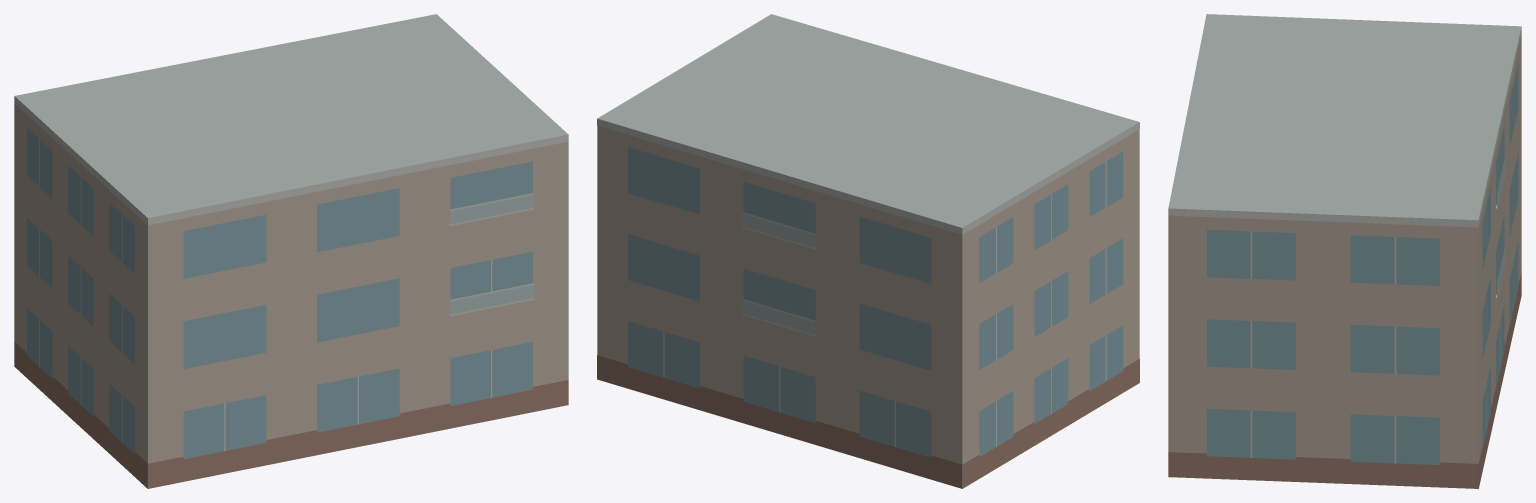
File: survey-upis-32479661.glb
The picture shows the model from 3 angles, left to right: view 1: azimuth 30°, elevation 25°; view 2: azimuth 150°, elevation 25°; view 3: azimuth 270°, elevation 25°; orthographic projection. The views are drawn at different scales.
Parts seen in each view (by area): view 1: survey-upis-32479661.tmp; view 2: survey-upis-32479661.tmp; view 3: survey-upis-32479661.tmp.
Part boxes in pixels (left/top/right/bottom): survey-upis-32479661.tmp: left=14, top=14, right=568, bottom=488; survey-upis-32479661.tmp: left=597, top=14, right=1139, bottom=488; survey-upis-32479661.tmp: left=1168, top=14, right=1521, bottom=488.
Bounding box in the file's own units: 15.08 × 9.15 × 10.92.
